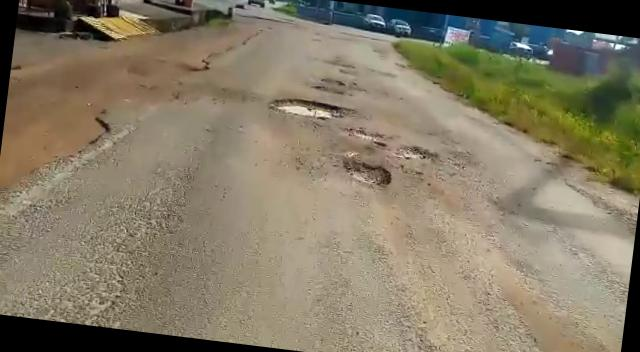pothole: (264, 92, 356, 125), (338, 158, 393, 187), (394, 143, 436, 162), (343, 126, 386, 144)
